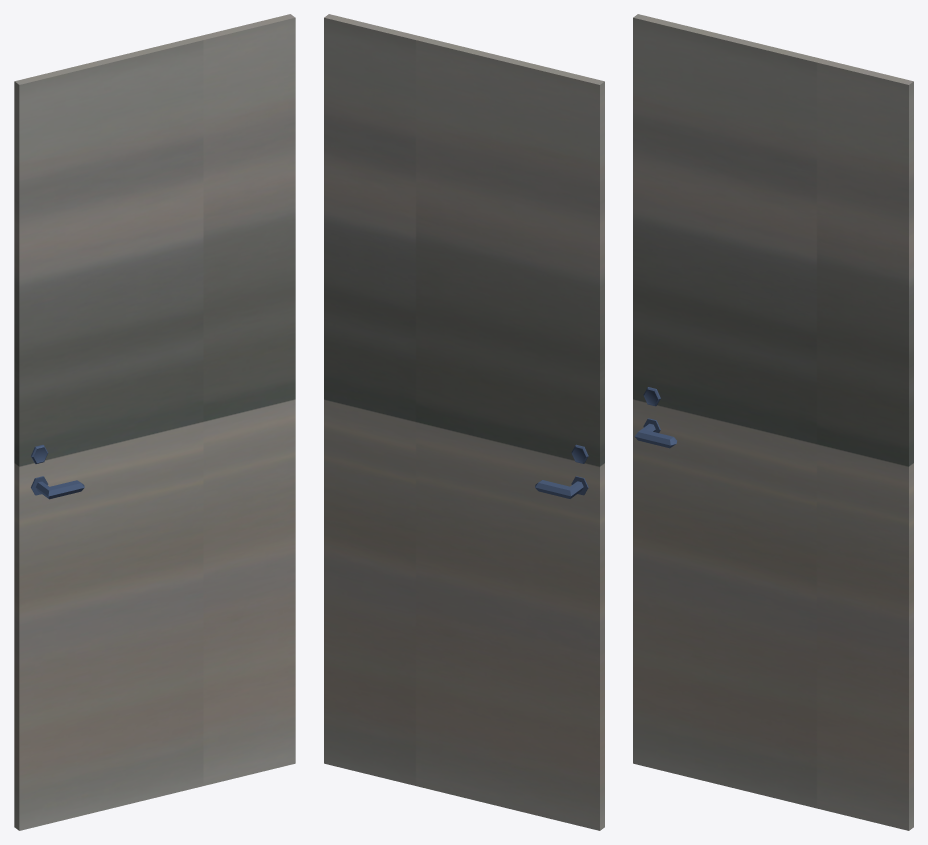
Rendered from SW_corridor__R_lobby_R_Aula_Ovi_017.FBX.
The picture shows the model from 3 angles, left to right: view 1: azimuth 30°, elevation 25°; view 2: azimuth 150°, elevation 25°; view 3: azimuth 330°, elevation 25°; orthographic projection.
Parts seen in each view (by area): view 1: SW_corridor__R_lobby_R_Aula_Ovi_017; view 2: SW_corridor__R_lobby_R_Aula_Ovi_017; view 3: SW_corridor__R_lobby_R_Aula_Ovi_017.
Part boxes in pixels (bbox=[...]): SW_corridor__R_lobby_R_Aula_Ovi_017: bbox=[14, 14, 295, 830]; SW_corridor__R_lobby_R_Aula_Ovi_017: bbox=[324, 14, 604, 830]; SW_corridor__R_lobby_R_Aula_Ovi_017: bbox=[633, 14, 913, 830].
Size of the model in its own units: 79.37 by 16.03 by 205.
